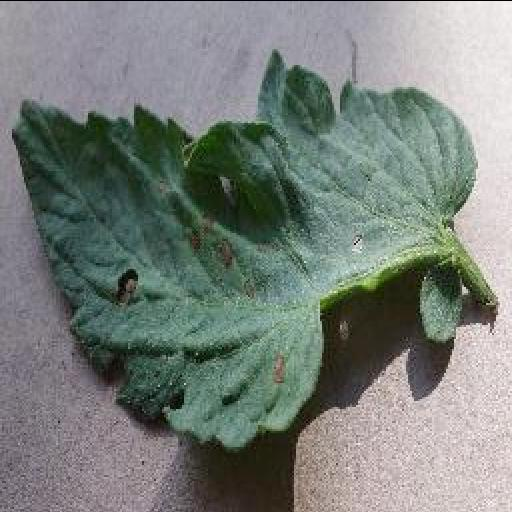disease_tomato: (8, 60, 482, 468)
